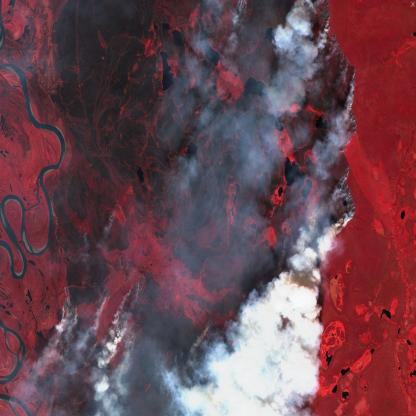fire: (269, 0, 362, 256), (54, 260, 152, 372), (226, 373, 289, 416), (186, 308, 223, 340)
